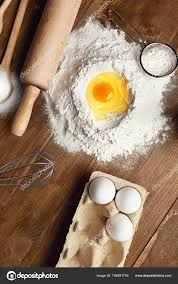Eggs: (90, 174, 137, 248)
